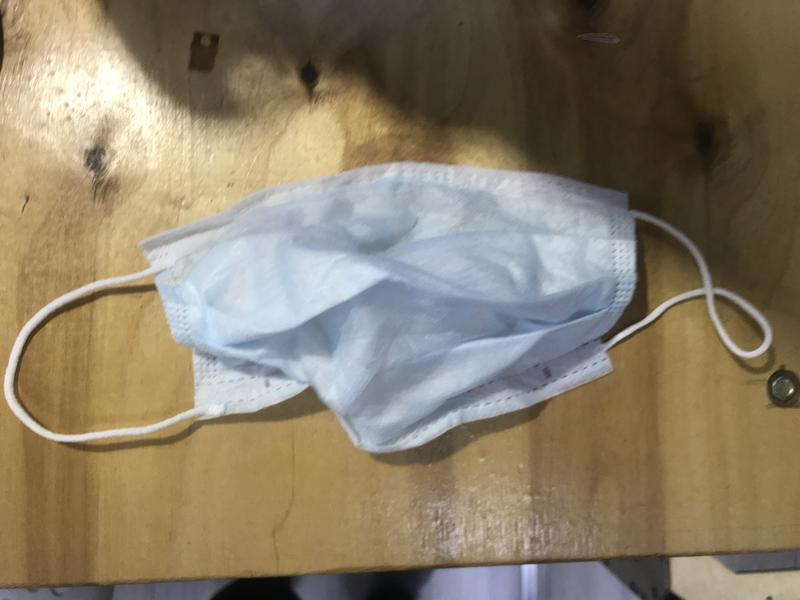medical_mask: (4, 164, 800, 456)
